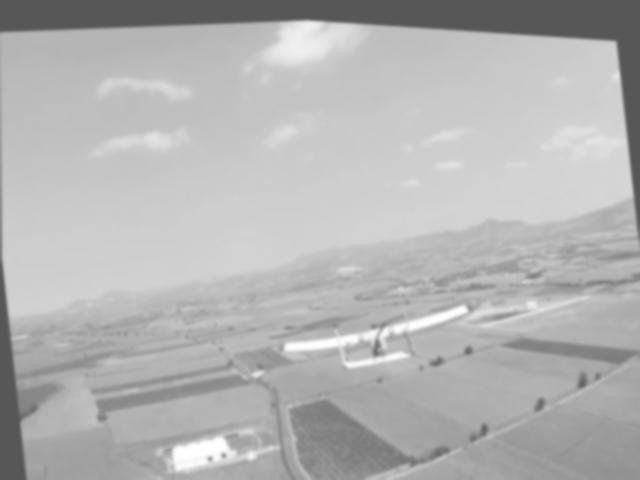hedef: (262, 273, 488, 393)
